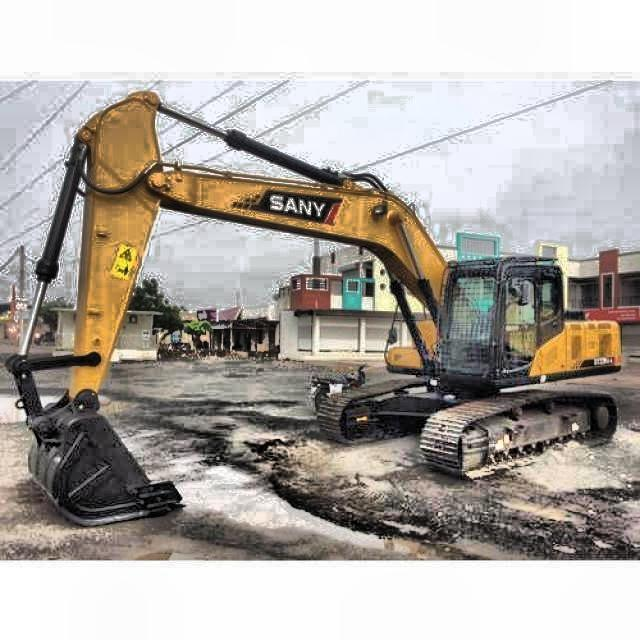excavator: (0, 87, 637, 528)
